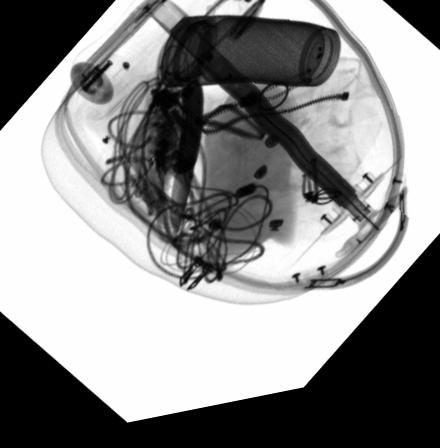Knife: (169, 86, 204, 240)
